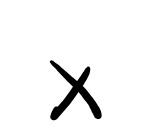mult: (48, 58, 102, 123)
